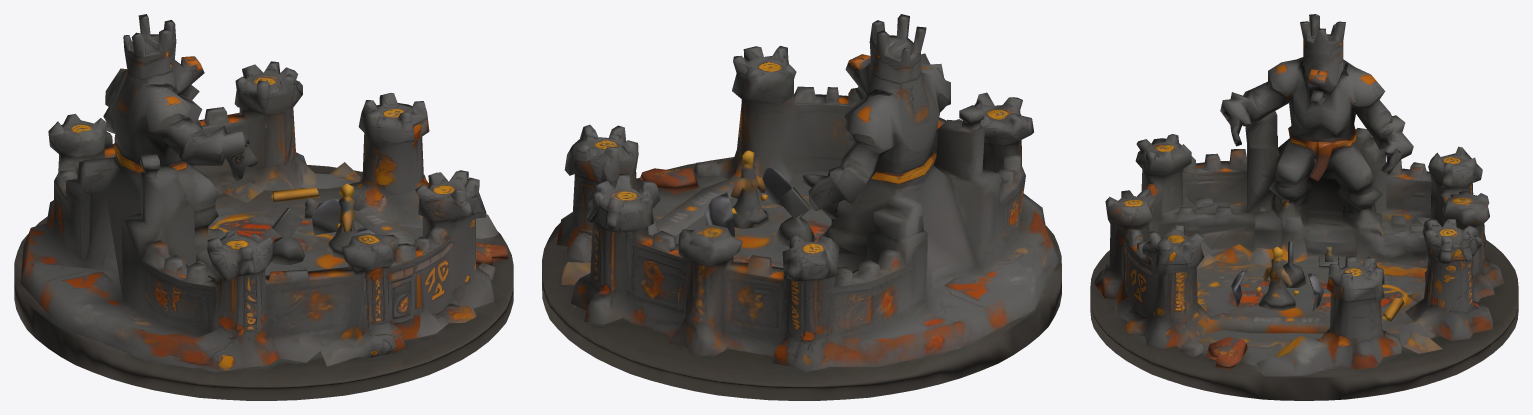
File: paisaje.glb
The picture shows the model from 3 angles, left to right: view 1: azimuth 30°, elevation 25°; view 2: azimuth 150°, elevation 25°; view 3: azimuth 270°, elevation 25°; orthographic projection. The views are drawn at different scales.
Visible parts, largest first — view 1: tripo_node_ab74c595-18f9-4670-acf9-ce52e3c8c47d; view 2: tripo_node_ab74c595-18f9-4670-acf9-ce52e3c8c47d; view 3: tripo_node_ab74c595-18f9-4670-acf9-ce52e3c8c47d.
Boxes of the visible parts, x1,y1,x2,y2 form: tripo_node_ab74c595-18f9-4670-acf9-ce52e3c8c47d: (14,14,513,400); tripo_node_ab74c595-18f9-4670-acf9-ce52e3c8c47d: (542,14,1061,400); tripo_node_ab74c595-18f9-4670-acf9-ce52e3c8c47d: (1090,14,1518,400).
Bounding box in the file's own units: 0.998 × 0.6348 × 0.998.
Materials: 1 (1 with a texture image).
